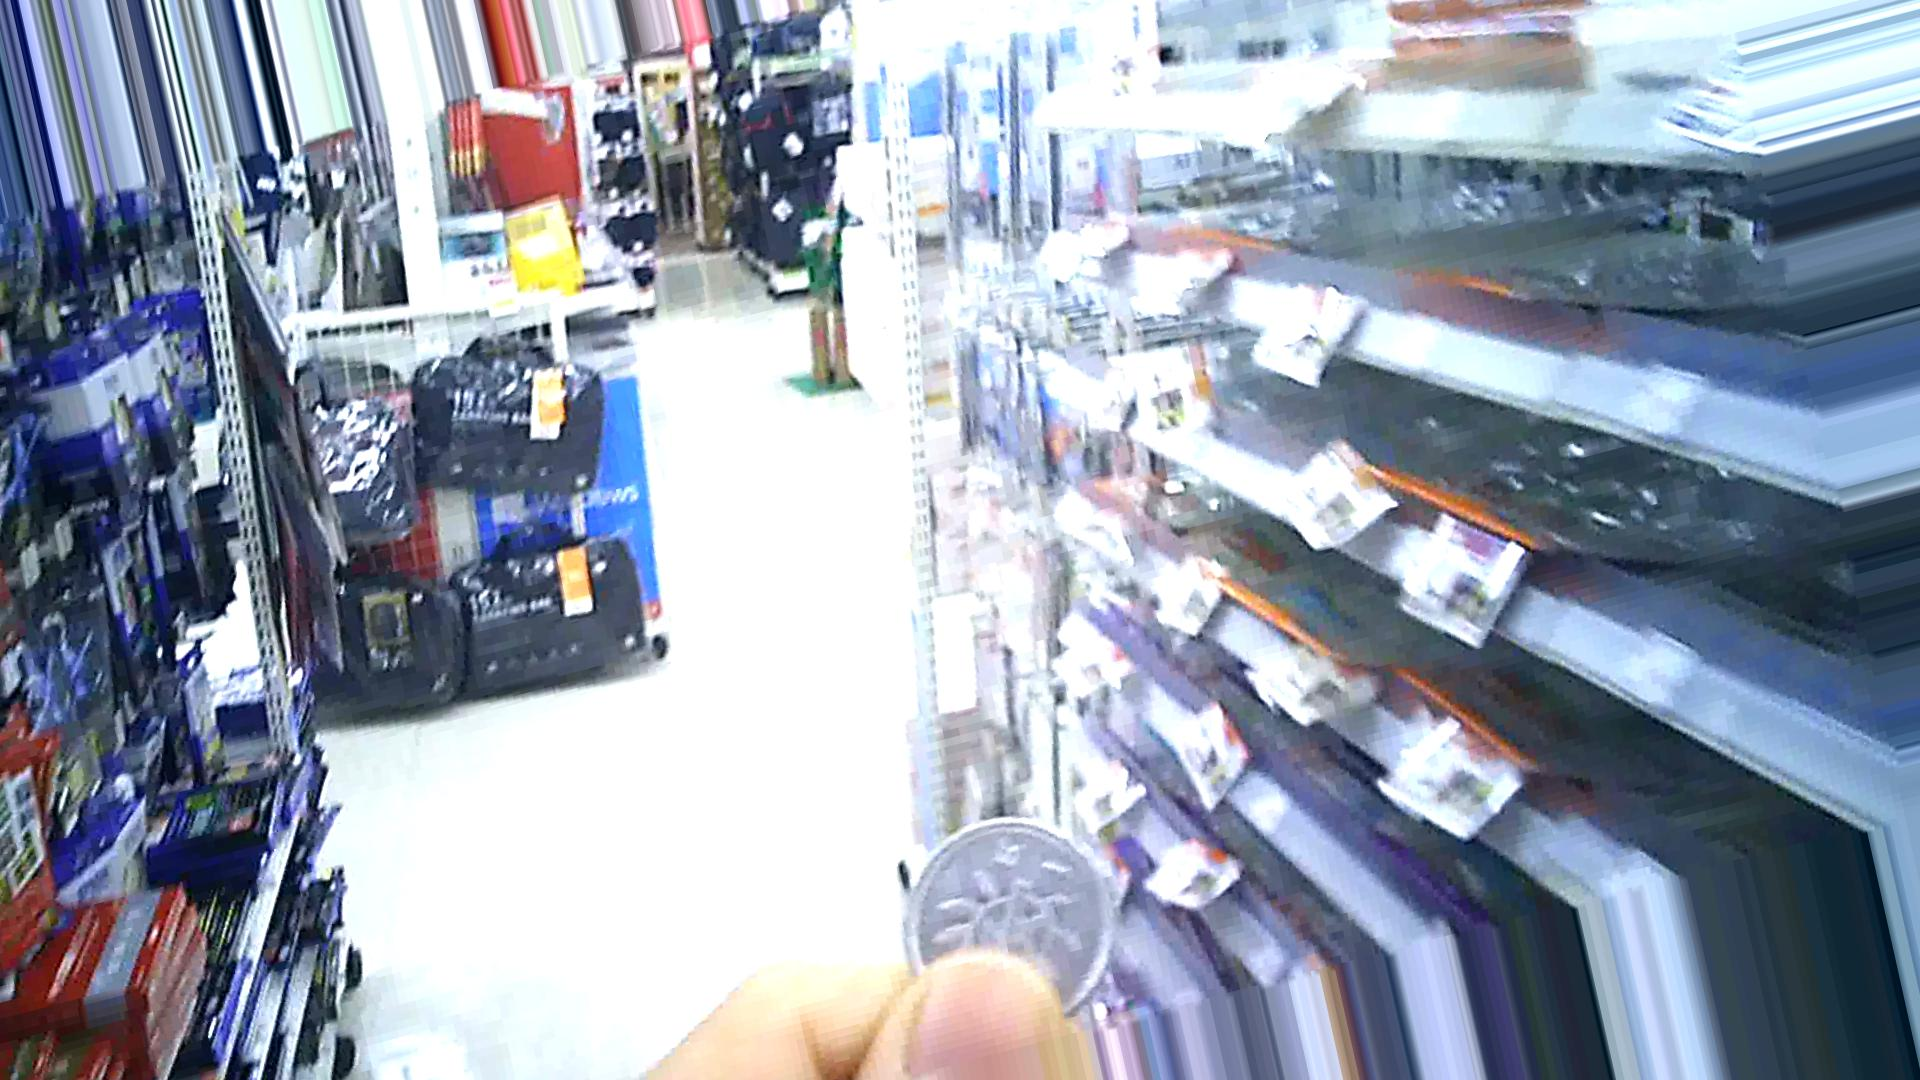1 Yen: (910, 807, 1120, 1030)
